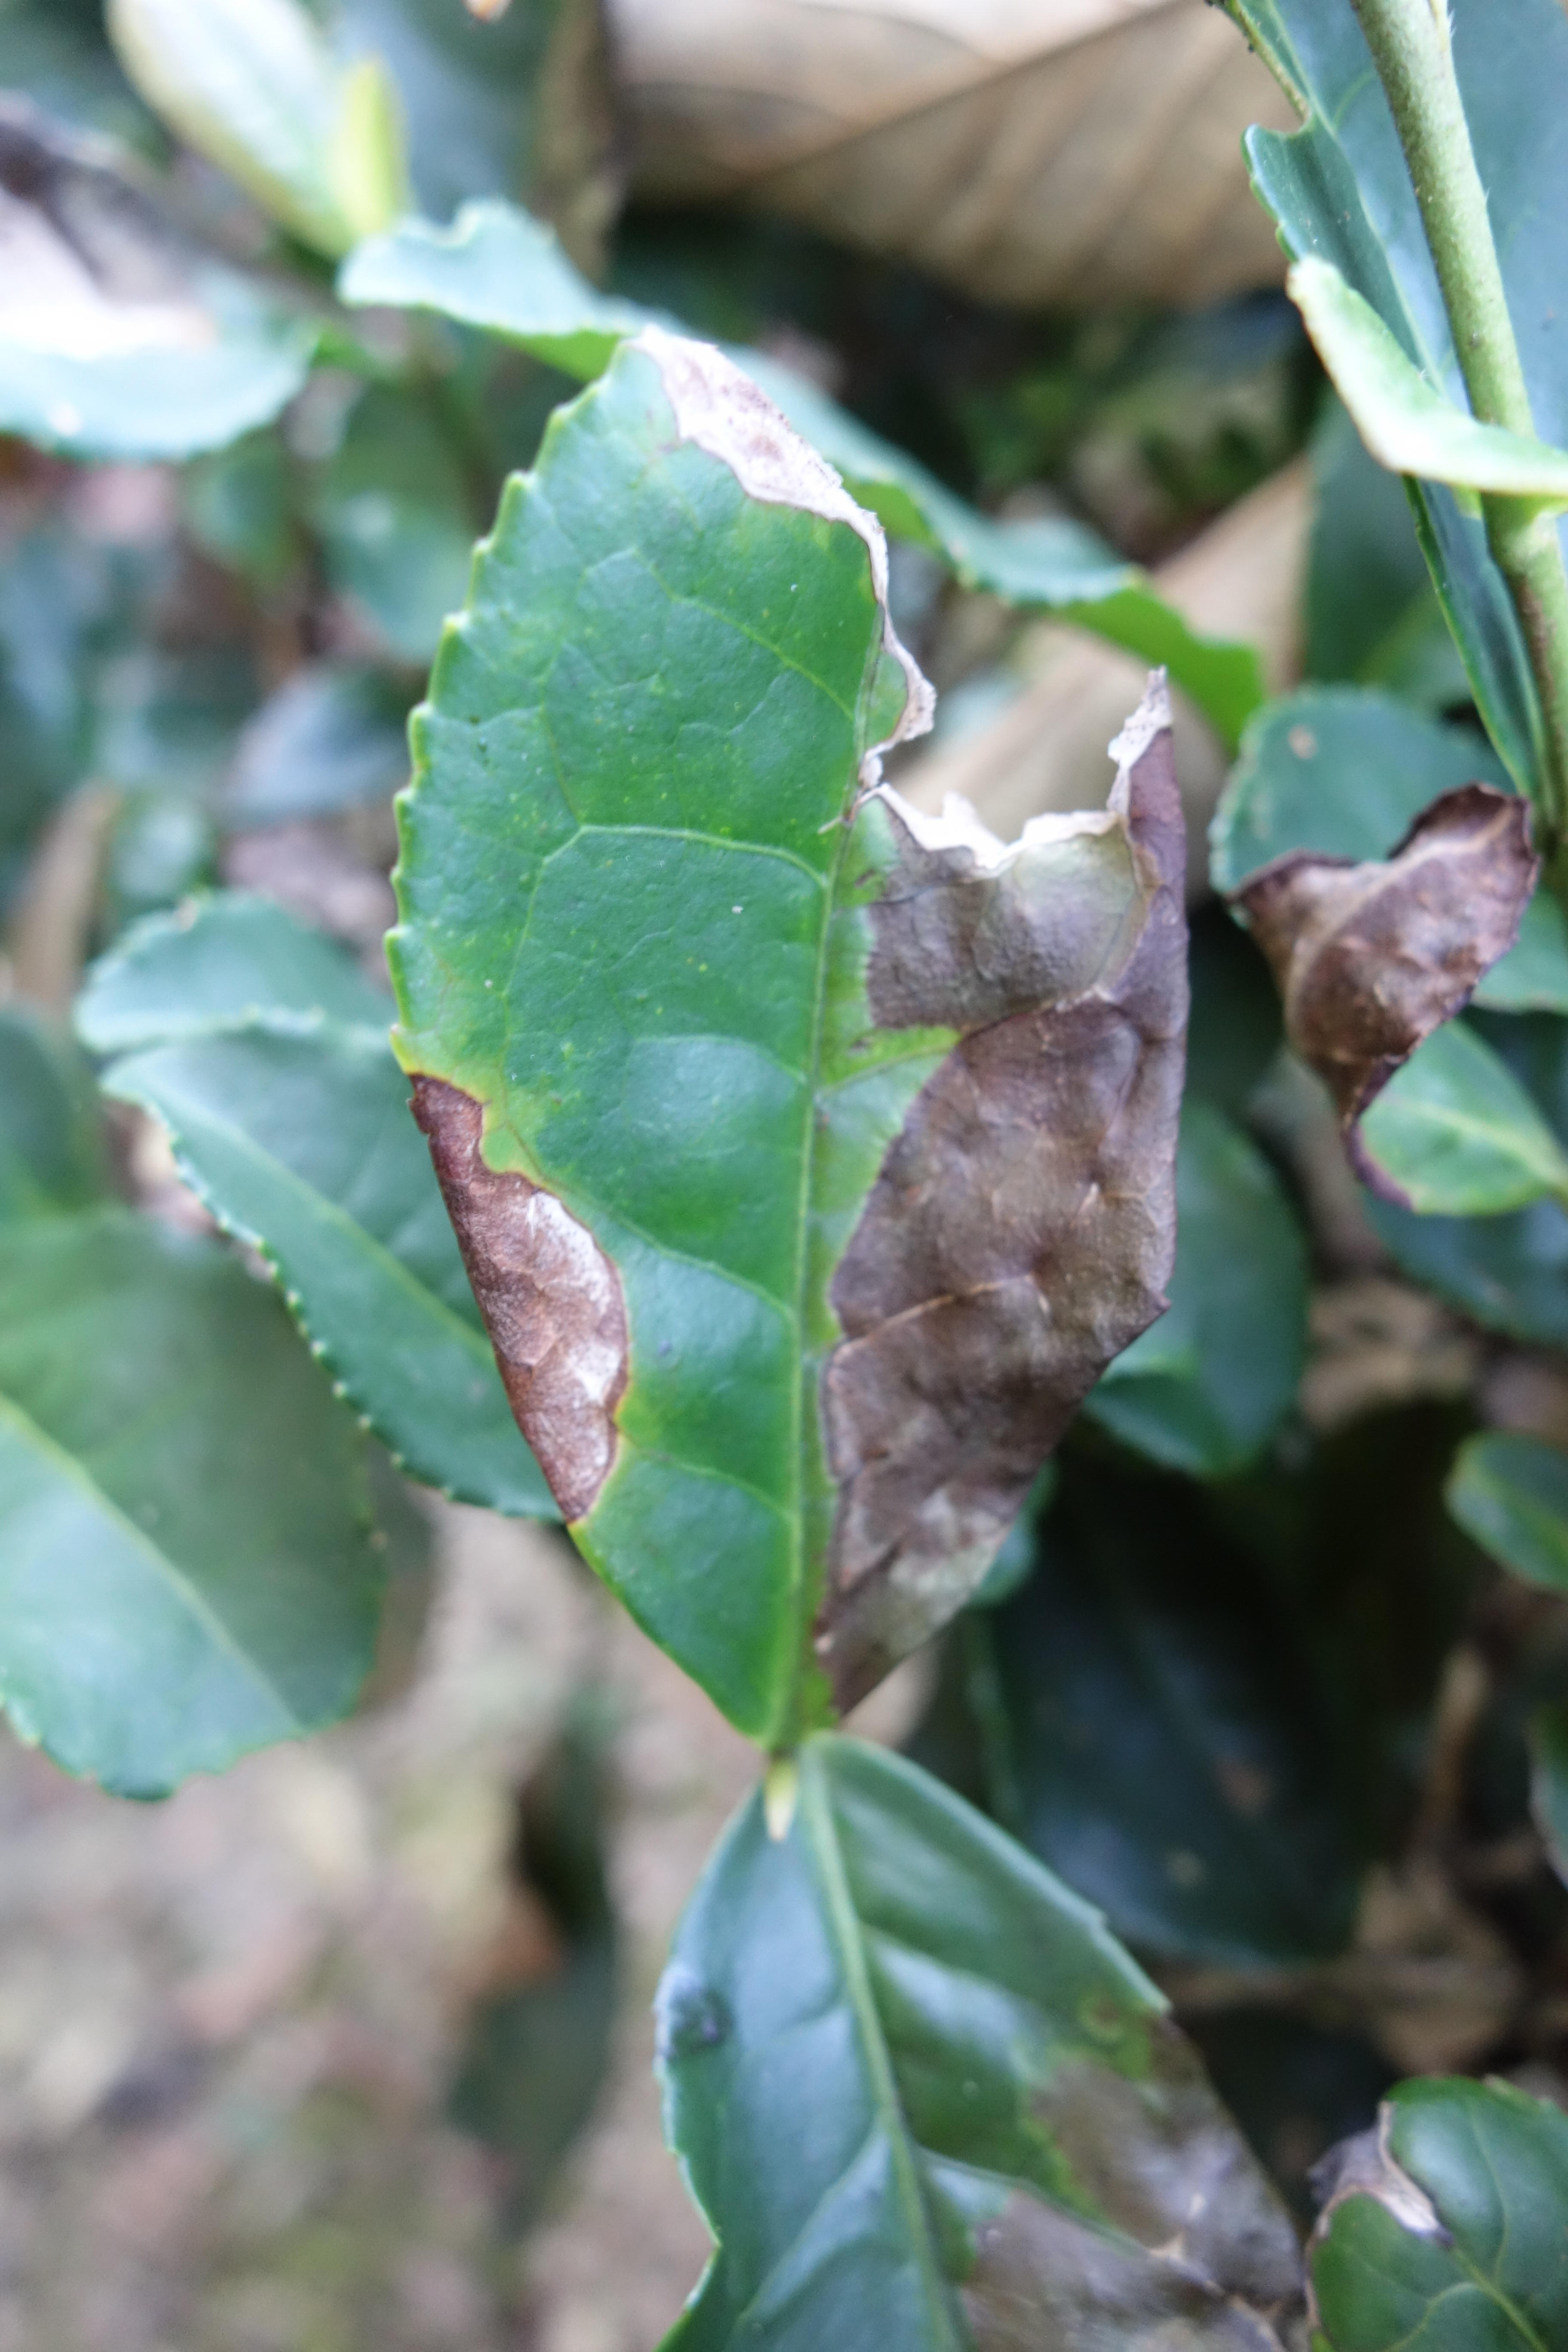tanju_high: (381, 334, 1200, 1746), (658, 1734, 1318, 2347), (1235, 791, 1557, 1209)
